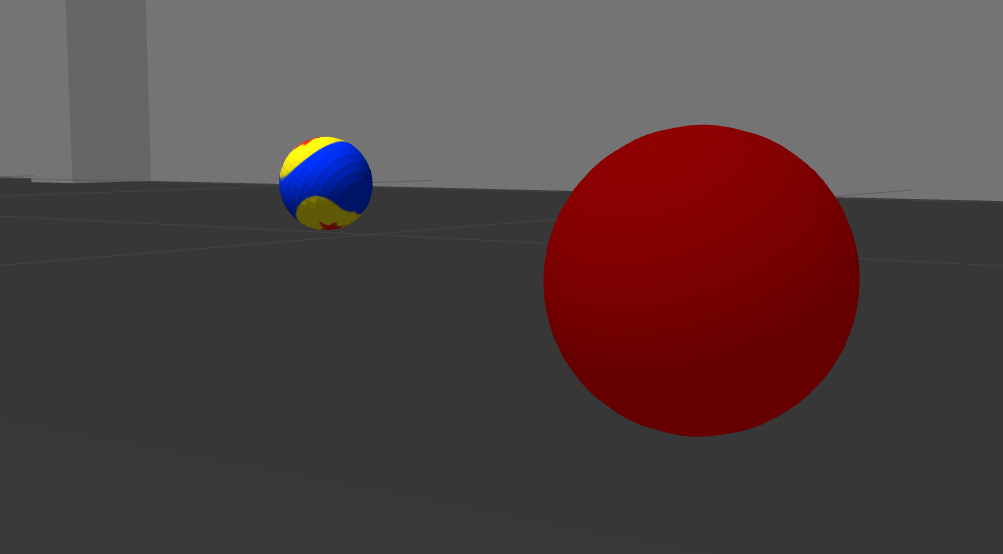toy_story_ball: (278, 136, 373, 232)
